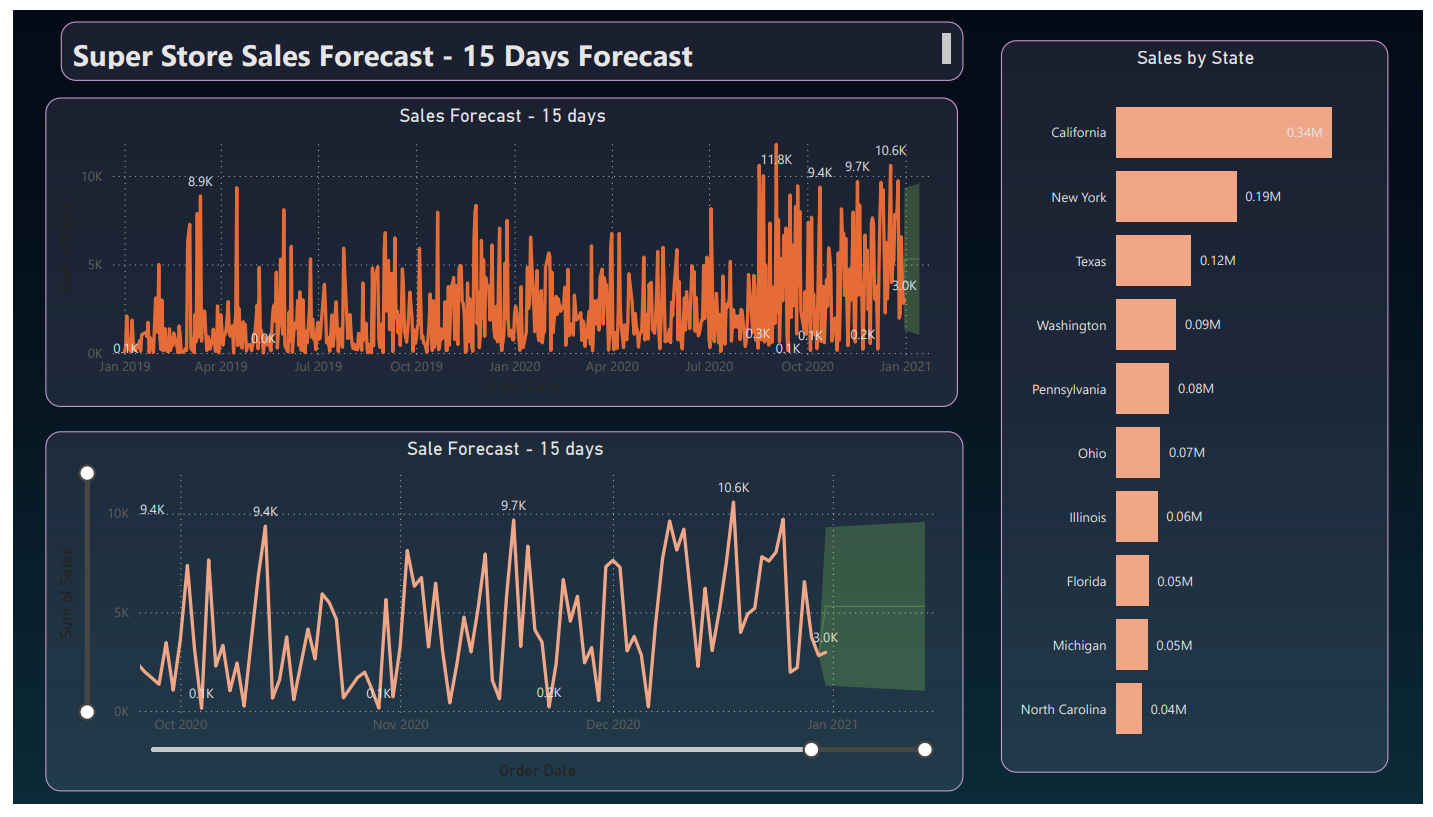

The page's visual inventory and layout, read from the dashboard file:
{"tool":"powerbi","page":{"name":"Page 2","canvas":[1280,720],"ordinal":1},"visuals":[{"type":"lineChart","title":"Sales Forecast - 15 days","fields":{"Y":["Sum(SuperStore_Sales_Dataset.Sales)"],"Category":["SuperStore_Sales_Dataset.Order Date"]},"box":[28.9,78.9,828.9,281.1],"z":0},{"type":"lineChart","title":"Sale Forecast - 15 days","fields":{"Y":["Sum(SuperStore_Sales_Dataset.Sales)"],"Category":["SuperStore_Sales_Dataset.Order Date"]},"box":[28.9,382.2,834.4,326.7],"z":1000},{"type":"clusteredBarChart","title":"Sales by State","fields":{"Category":["SuperStore_Sales_Dataset.State"],"Y":["Sum(SuperStore_Sales_Dataset.Sales)"]},"box":[896.7,26.7,352.2,665.6],"z":2000},{"type":"textbox","box":[43.3,10,820,54.4],"z":3000}]}

Visuals, with their boxes in screenshot pixels (x1, y1, x2, y2), scaled from the page's 1280x720 canvas onto the 1433x817 screenshot:
"Sales Forecast - 15 days" lineChart: 32:90:960:408
"Sale Forecast - 15 days" lineChart: 32:434:966:804
"Sales by State" clusteredBarChart: 1004:30:1398:786
textbox: 48:11:966:73
